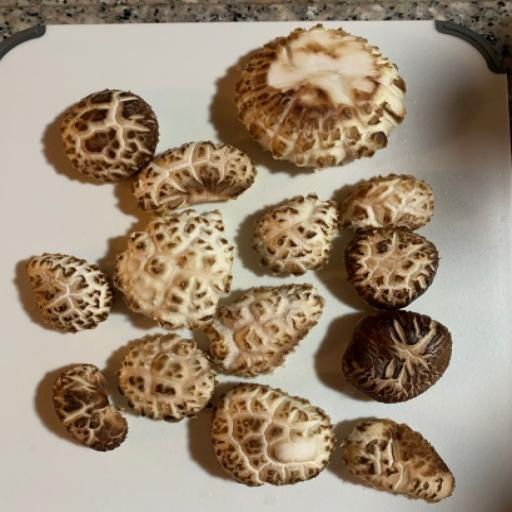Shiitake Mushroom: (12, 19, 511, 510)
